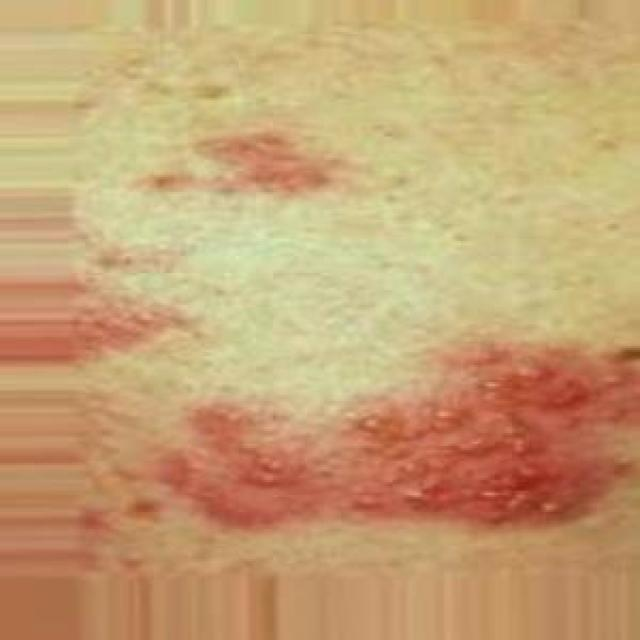Shingles: (155, 339, 640, 533), (136, 125, 362, 200), (84, 234, 202, 357)
